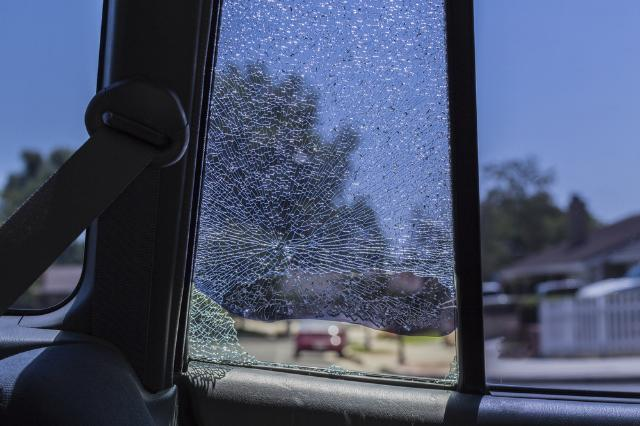glass shatter: (186, 0, 458, 390)
